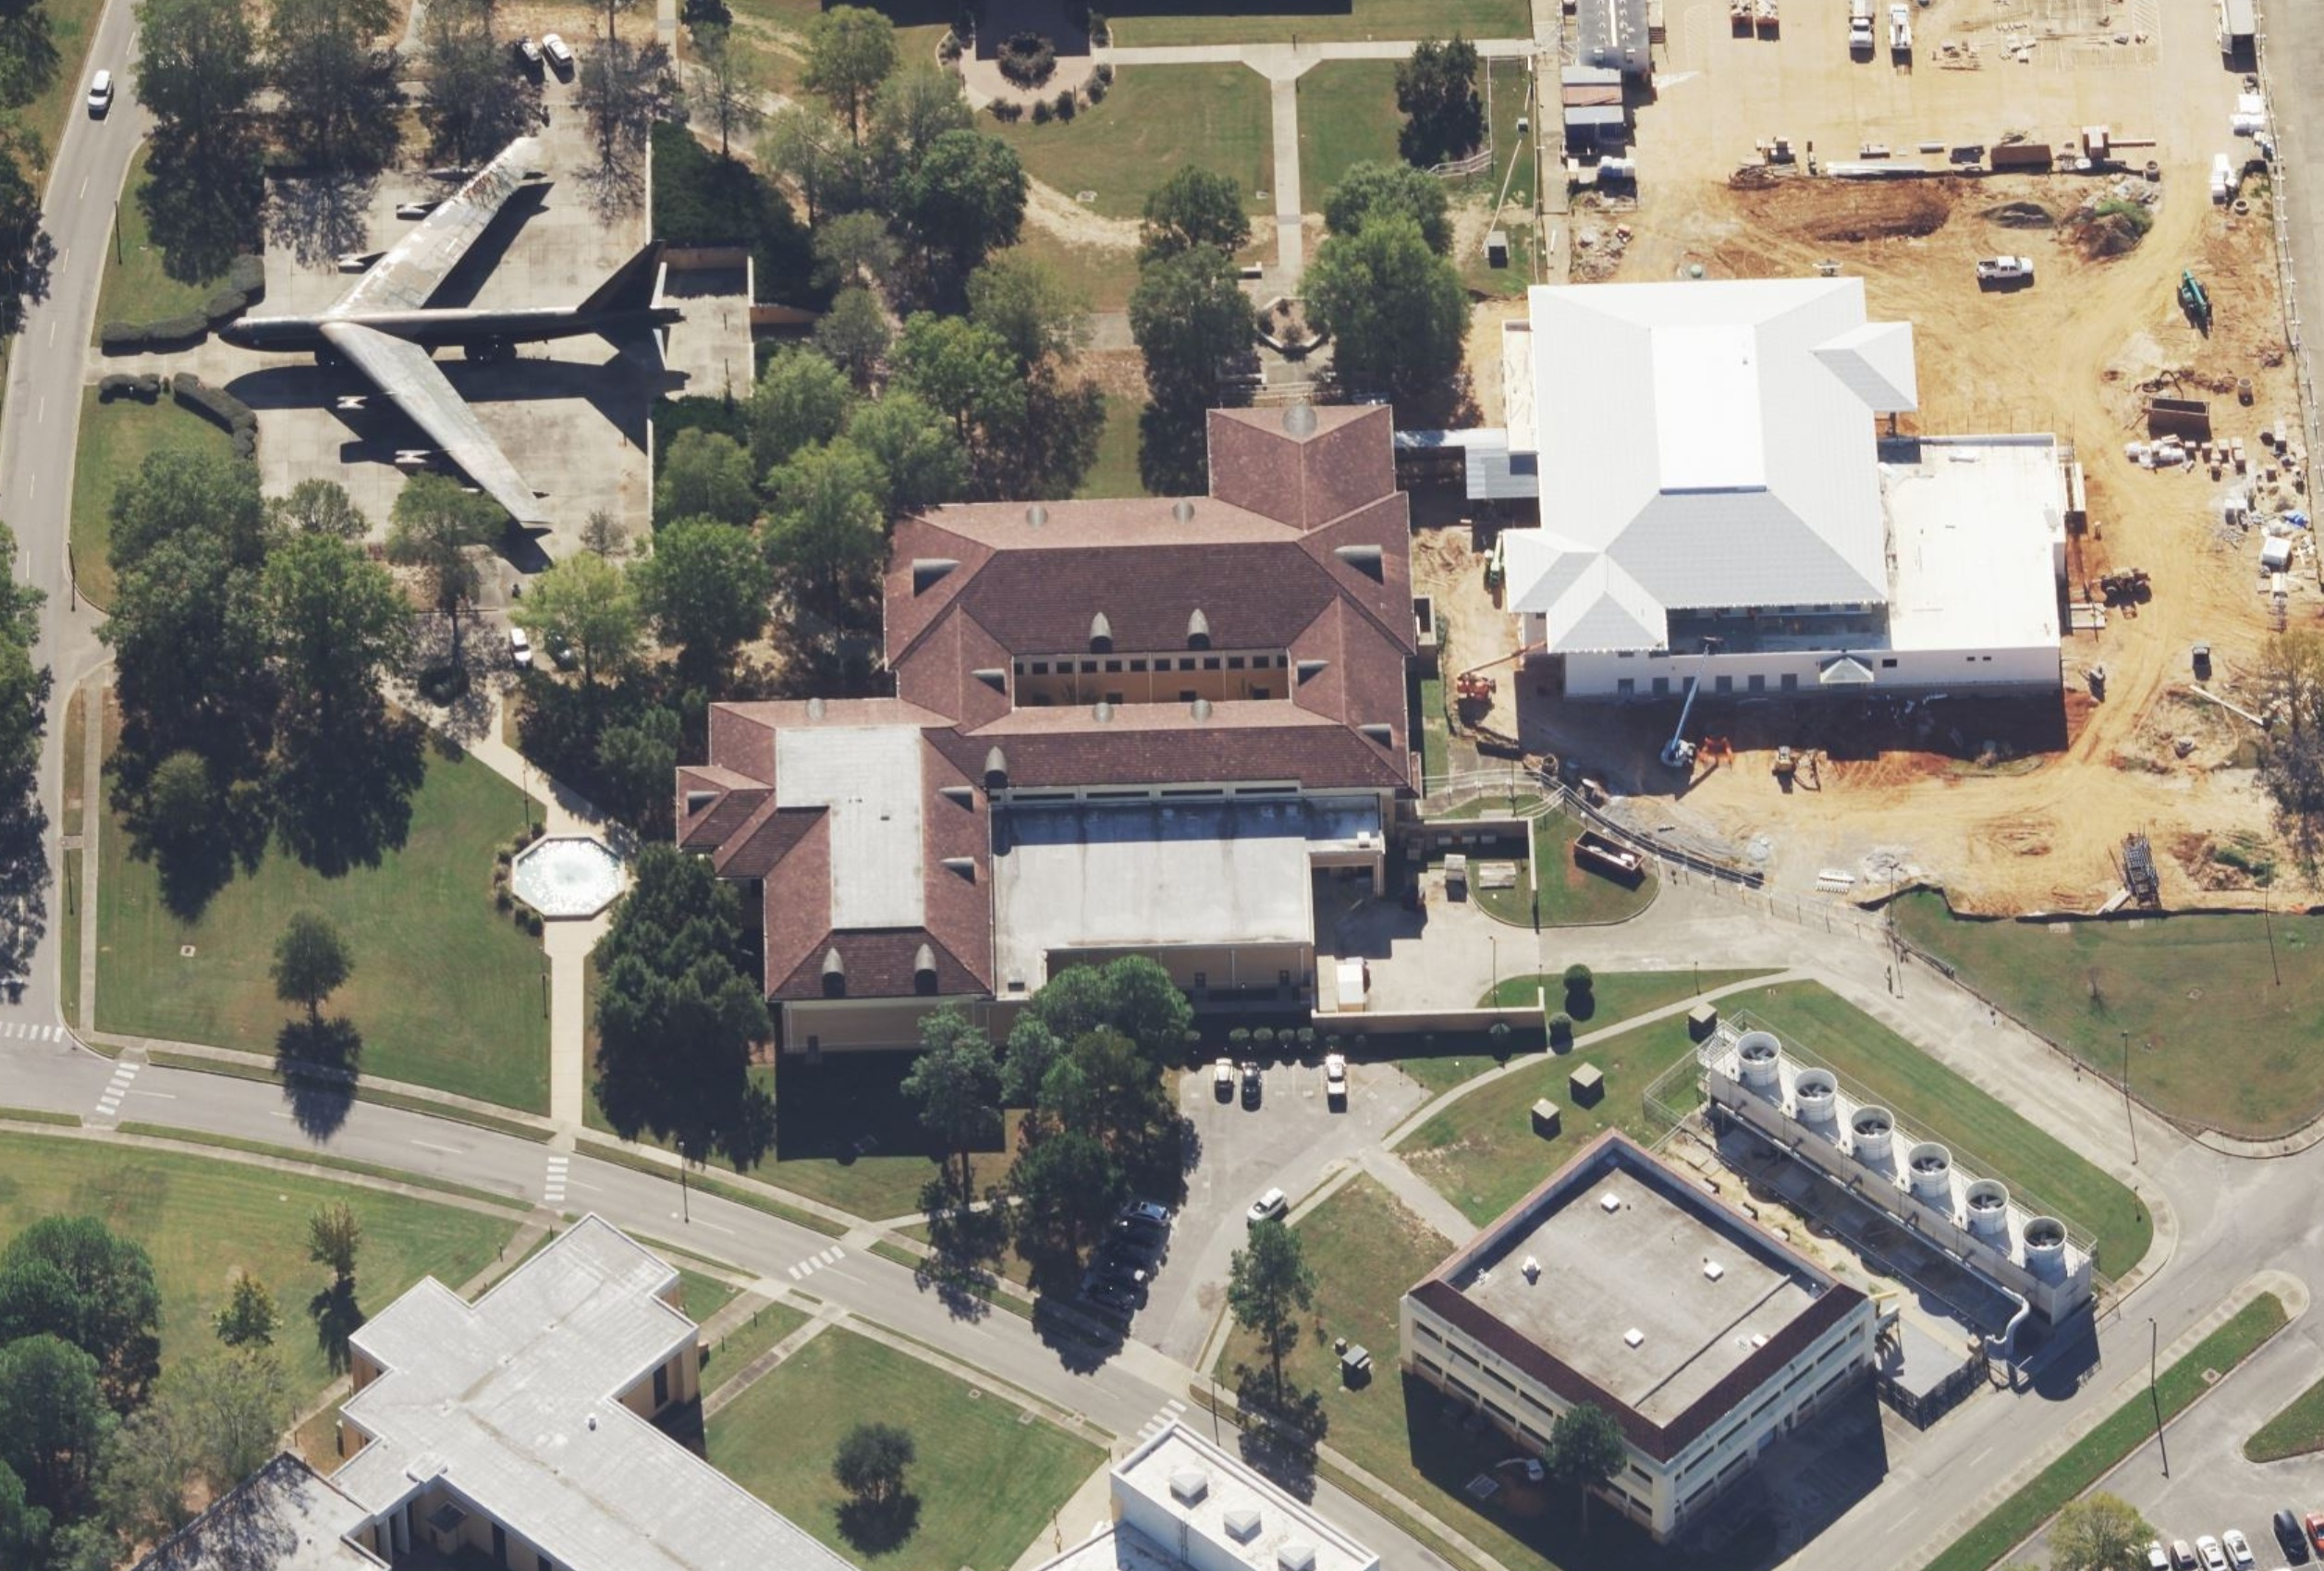B52: (217, 137, 689, 531)
